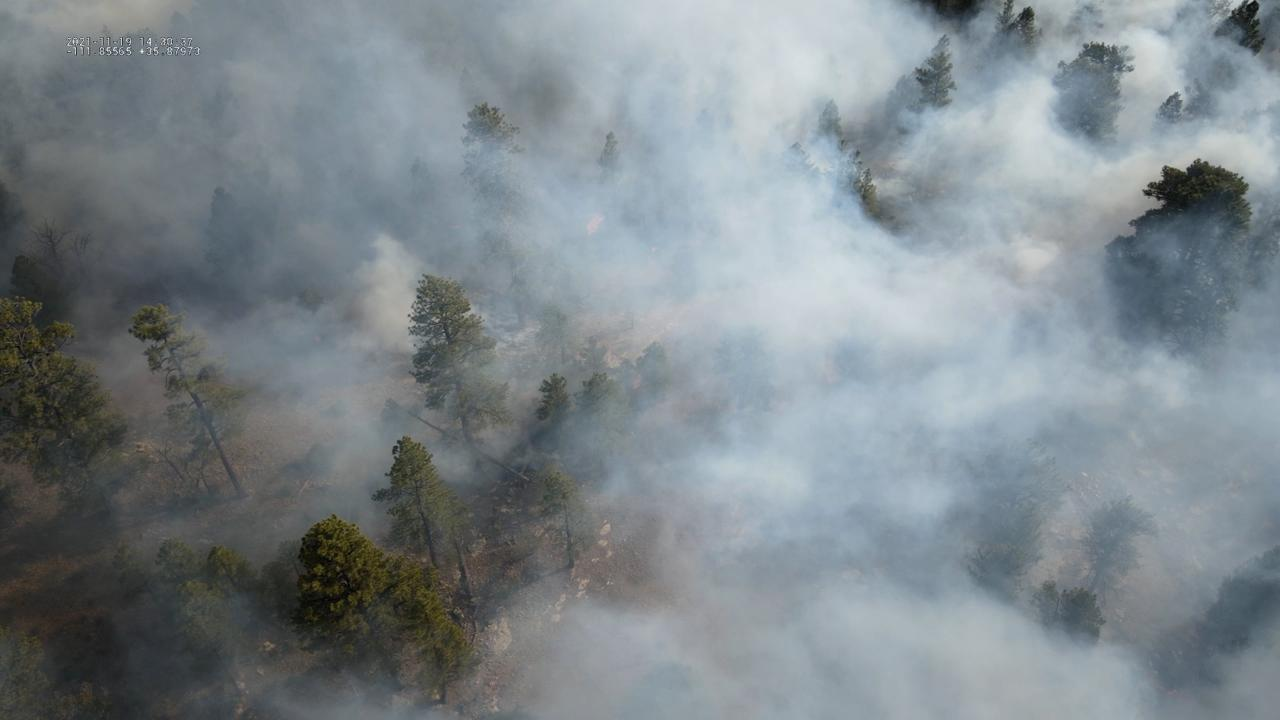fire: (585, 211, 606, 238)
smoke: (0, 0, 1280, 720)
